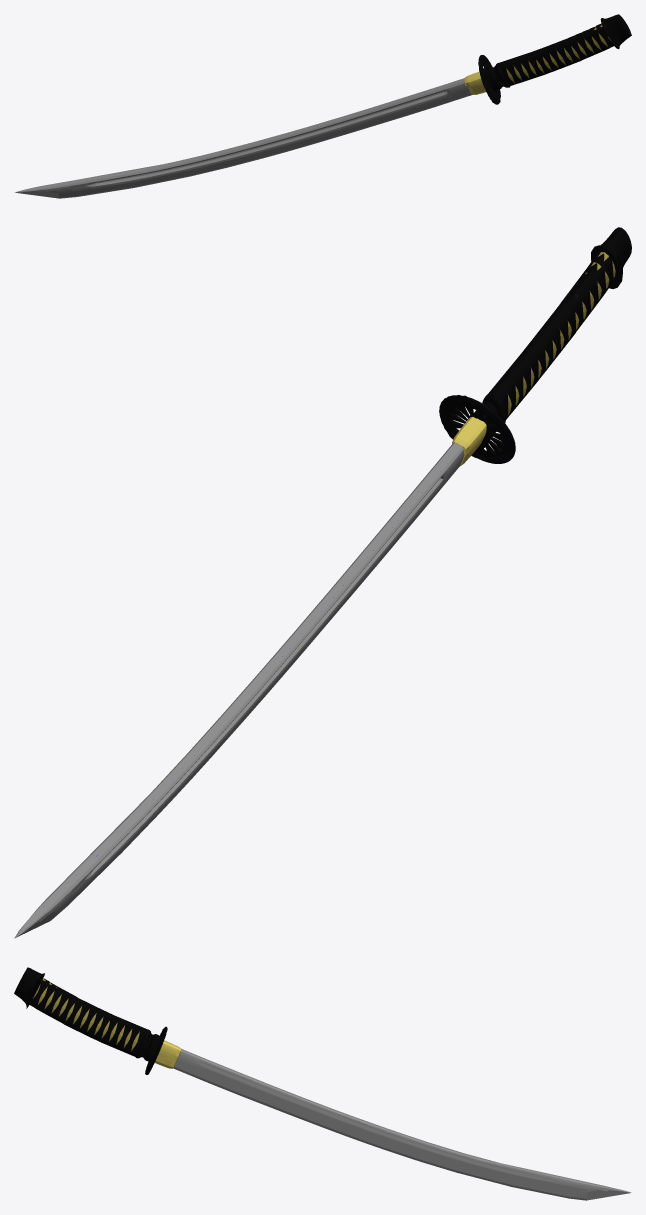
File: Katana.glb
The picture shows the model from 3 angles, top to bottom: view 1: azimuth 90°, elevation 25°; view 2: azimuth 150°, elevation 25°; view 3: azimuth 270°, elevation 25°; orthographic projection. The views are drawn at different scales.
Visible parts, largest first — view 1: Katana, Katana.008, Katana.009, Katana.007, Katana.001; view 2: Katana, Katana.002, Katana.009; view 3: Katana, Katana.008, Katana.009, Katana.001, Katana.007.
Boxes of the visible parts, bbox=[...] form: Katana: bbox=[14, 78, 472, 198]; Katana.008: bbox=[506, 24, 611, 83]; Katana.009: bbox=[600, 14, 631, 49]; Katana.007: bbox=[483, 63, 510, 91]; Katana.001: bbox=[464, 72, 485, 94]; Katana: bbox=[14, 442, 464, 938]; Katana.002: bbox=[445, 402, 507, 458]; Katana.009: bbox=[591, 227, 631, 288]; Katana: bbox=[173, 1049, 631, 1200]; Katana.008: bbox=[33, 978, 139, 1051]; Katana.009: bbox=[14, 967, 44, 1008]; Katana.001: bbox=[155, 1040, 181, 1068]; Katana.007: bbox=[136, 1029, 161, 1062].
Bounding box in the file's own units: 0.135 × 0.4779 × 1.28.
1 material, 1 textured.
